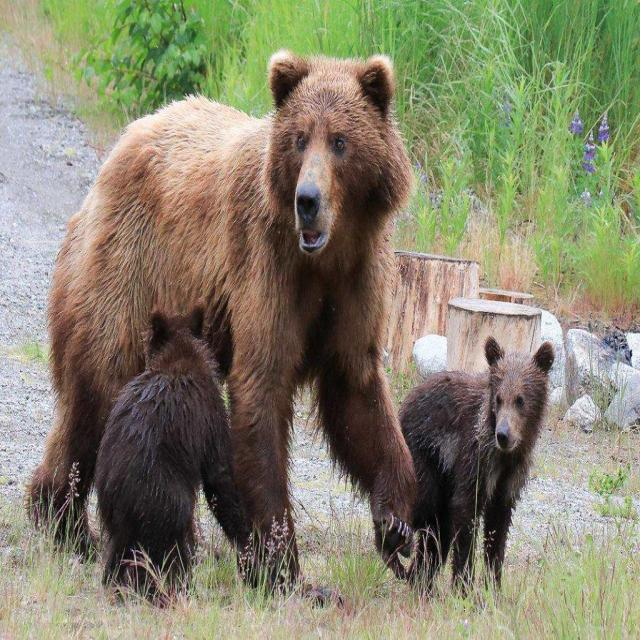Bear: (26, 50, 419, 592), (86, 327, 254, 597), (381, 341, 556, 590)
